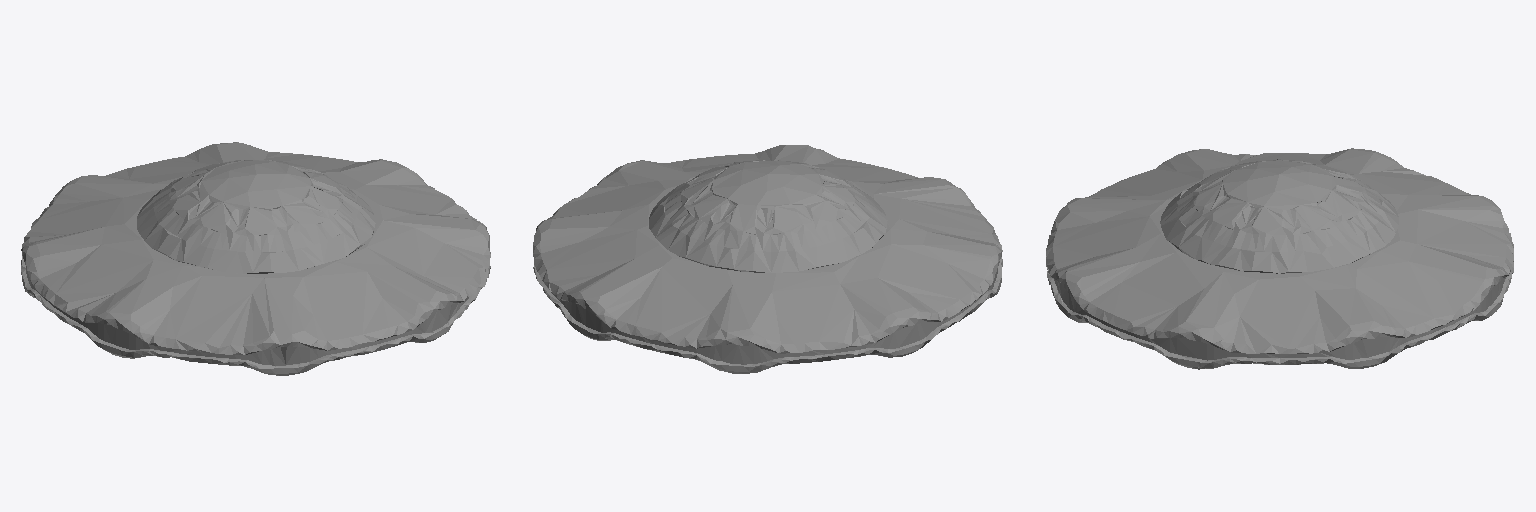
Rendered from frame_081.obj.
The picture shows the model from 3 angles: view 1: azimuth 30°, elevation 25°; view 2: azimuth 150°, elevation 25°; view 3: azimuth 270°, elevation 25°; orthographic projection.
Visible parts, largest first — view 1: 13884_UFO_Saucer_v1_l2; view 2: 13884_UFO_Saucer_v1_l2; view 3: 13884_UFO_Saucer_v1_l2.
Boxes of the visible parts, x1=… form: 13884_UFO_Saucer_v1_l2: x1=21, y1=142, x2=490, y2=375; 13884_UFO_Saucer_v1_l2: x1=533, y1=145, x2=1002, y2=373; 13884_UFO_Saucer_v1_l2: x1=1046, y1=148, x2=1513, y2=369.
Size of the model in its own units: 12.69 by 4.88 by 12.7.